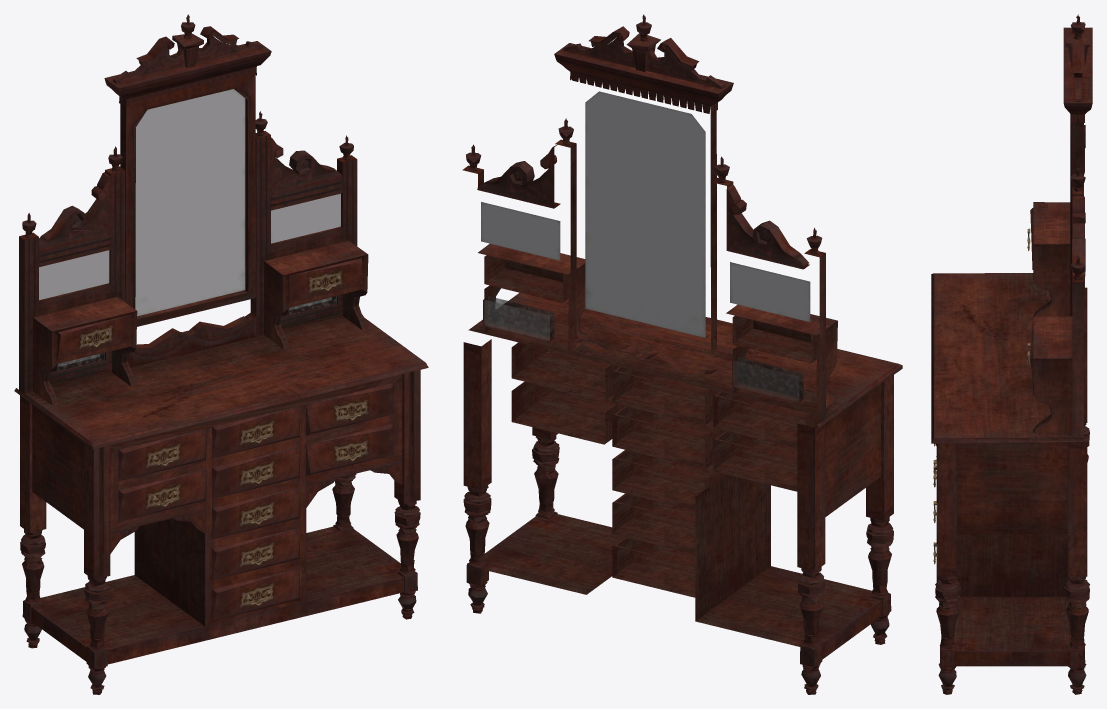
The model's file is dressing-table-round-mirror.lod1.glb.
The picture shows the model from 3 angles, left to right: view 1: azimuth 30°, elevation 25°; view 2: azimuth 150°, elevation 25°; view 3: azimuth 270°, elevation 25°; orthographic projection. The views are drawn at different scales.
Parts seen in each view (by area): view 1: dressing-table-round-mirror; view 2: dressing-table-round-mirror; view 3: dressing-table-round-mirror.
Boxes of the visible parts, x1=… form: dressing-table-round-mirror: x1=14, y1=14, x2=428, y2=694; dressing-table-round-mirror: x1=462, y1=14, x2=902, y2=694; dressing-table-round-mirror: x1=931, y1=14, x2=1092, y2=694.
Bounding box in the file's own units: 1.42 × 2.39 × 0.5801.
3 materials, 3 textured.
